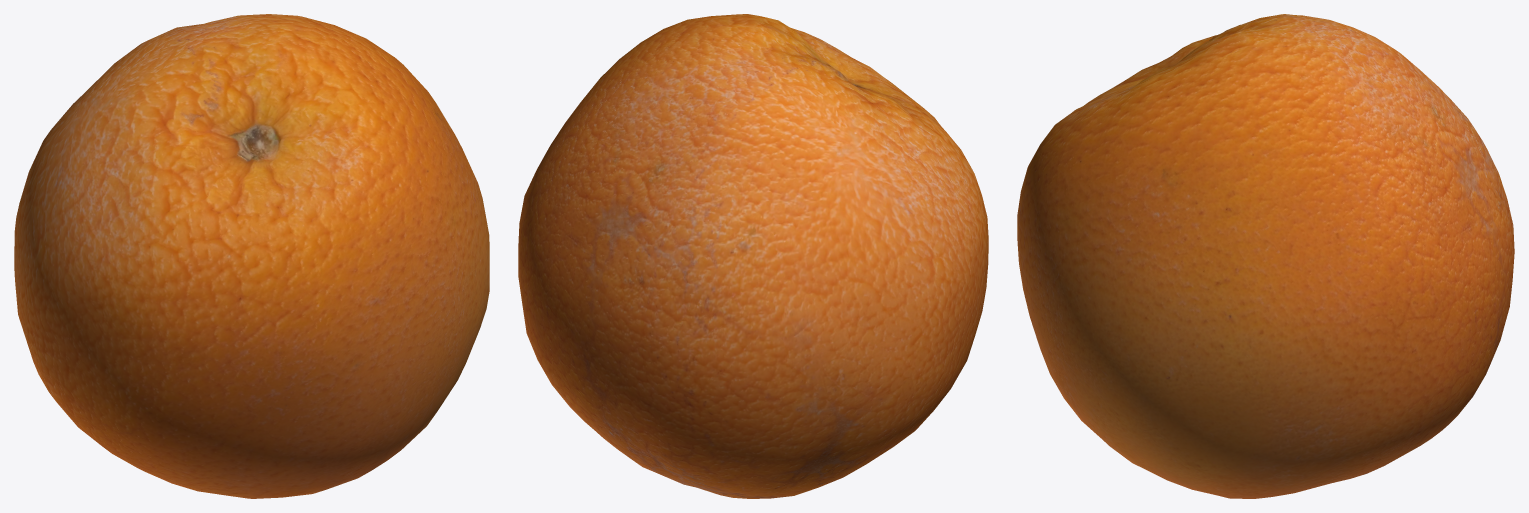
The model's file is Arancia.glb.
3 views of the same model, side by side, from view 1: azimuth 30°, elevation 25°; view 2: azimuth 150°, elevation 25°; view 3: azimuth 270°, elevation 25° (orthographic). The views are drawn at different scales.
Visible parts, largest first — view 1: Orange_v2_1; view 2: Orange_v2_1; view 3: Orange_v2_1.
Part boxes in pixels (<box>): Orange_v2_1: <box>14,14,489,498</box>; Orange_v2_1: <box>518,14,988,498</box>; Orange_v2_1: <box>1017,14,1514,498</box>.
Size of the model in its own units: 0.1115 by 0.115 by 0.1149.
1 material, 1 textured.
